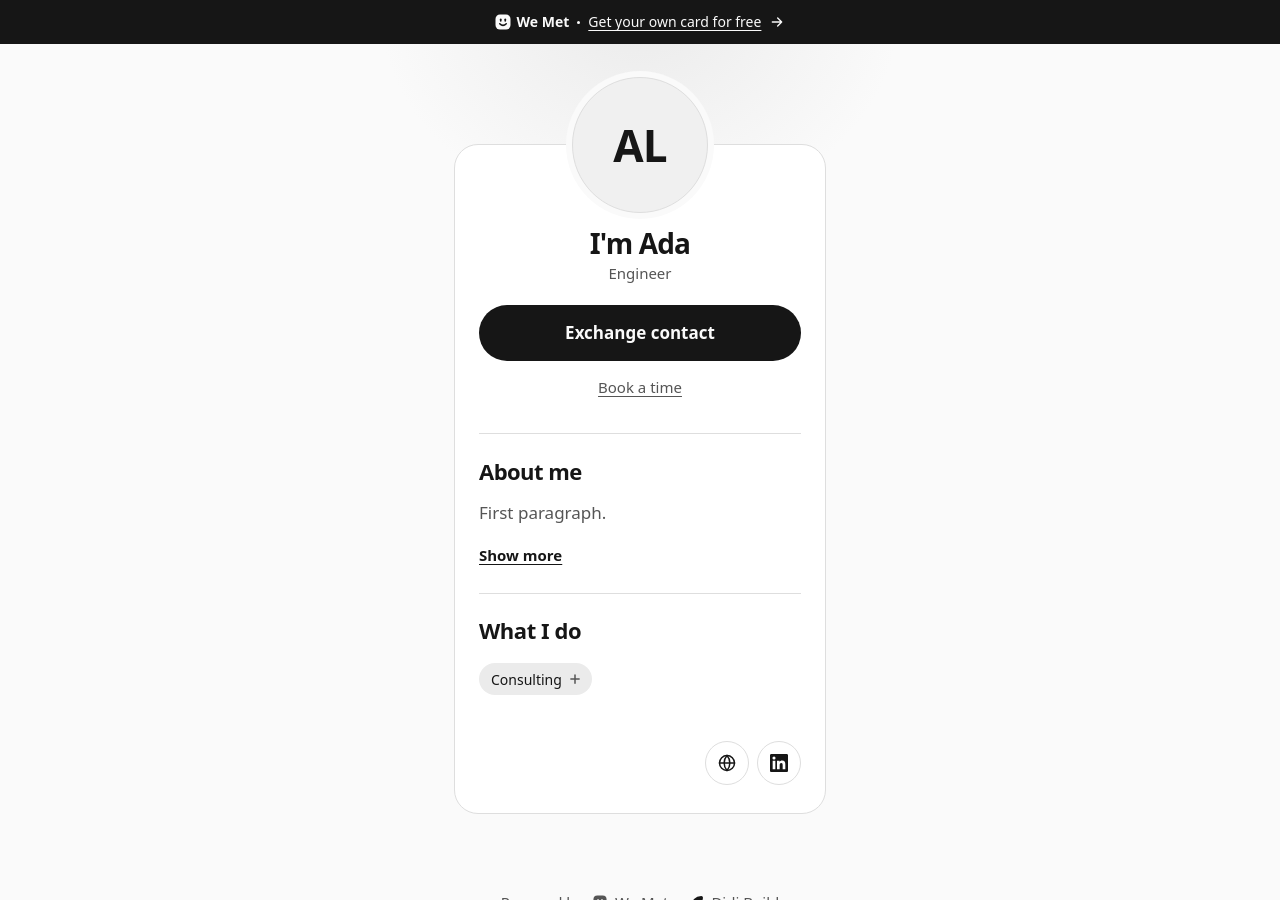
Scenario: AppCardPreview interaction (integration) › opens chip popover on chip click
Click the button "Consulting".
click(535, 679)  # box x1=479 y1=657 x2=592 y2=701
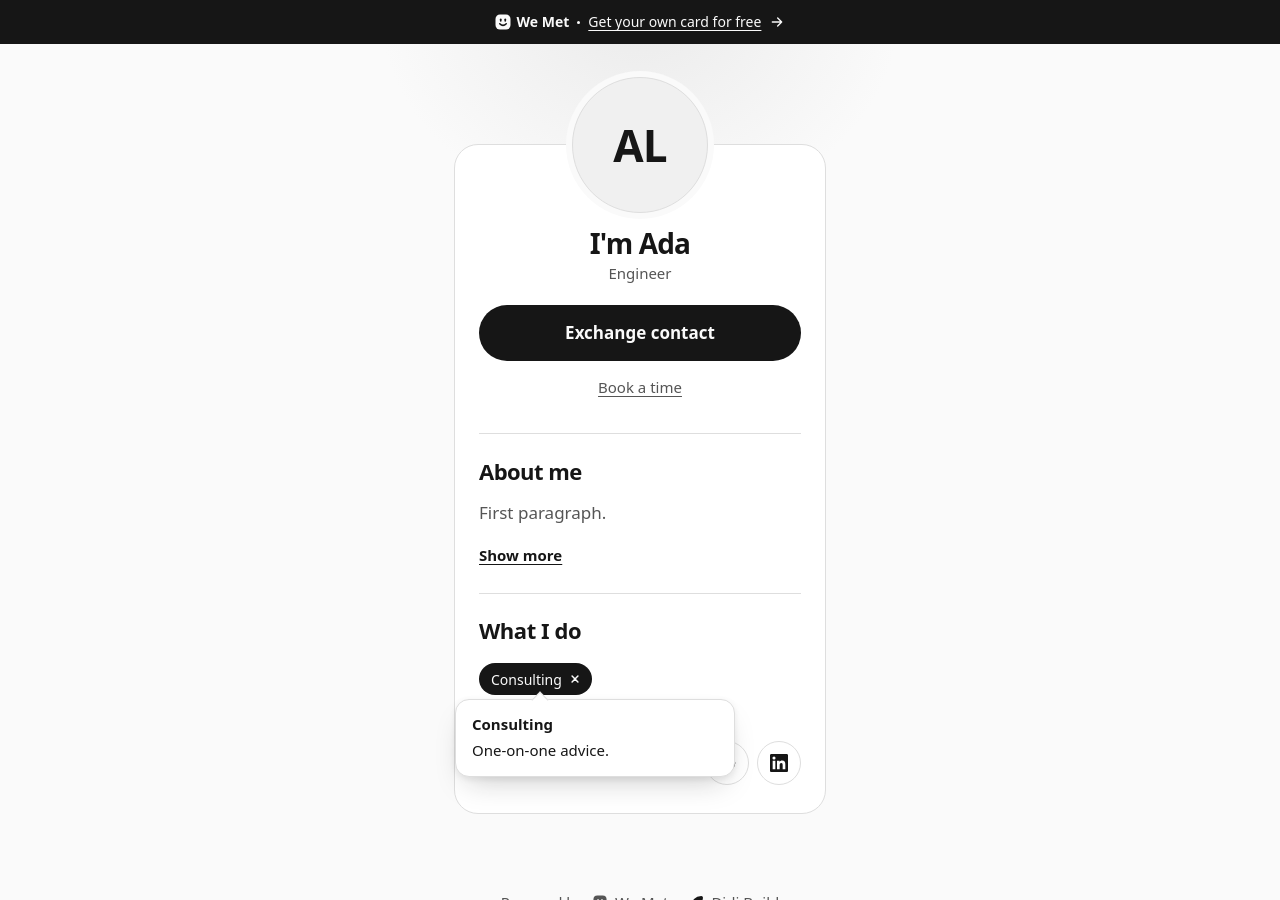
Now the element with id "chip-pop" shows "One-on-one advice.", box x1=472 y1=740 x2=609 y2=760
